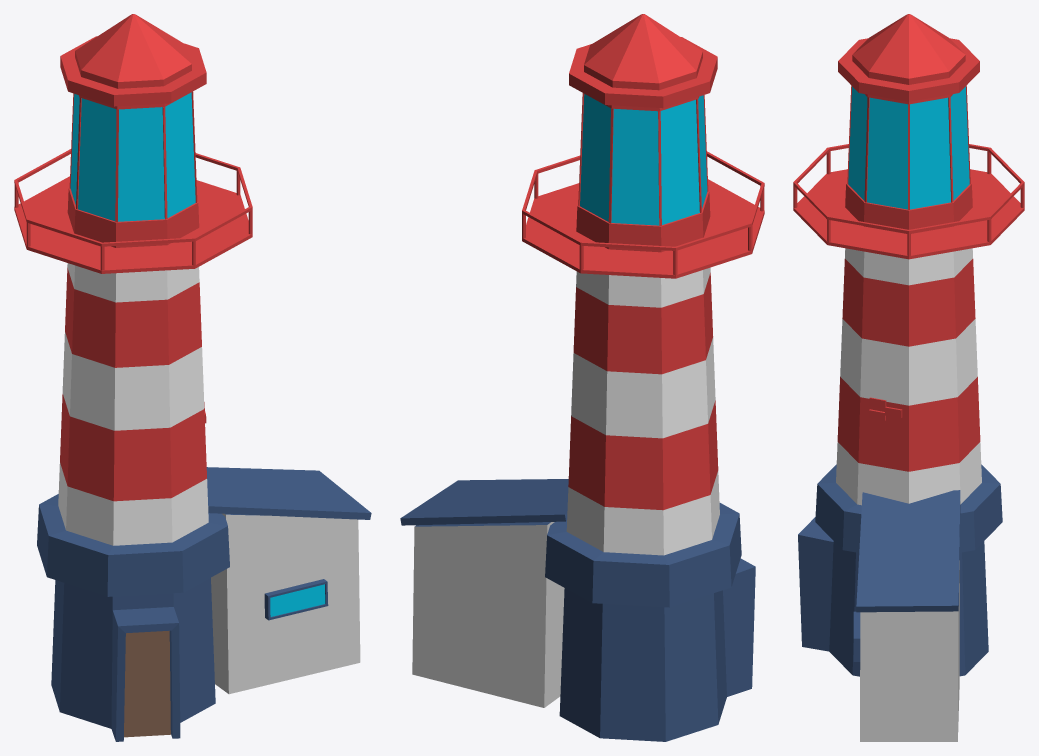
The model's file is Gp1Assets_LightHouse (1).fbx.
3 views of the same model, side by side, from view 1: azimuth 30°, elevation 25°; view 2: azimuth 150°, elevation 25°; view 3: azimuth 270°, elevation 25° (orthographic). The views are drawn at different scales.
Visible parts, largest first — view 1: LightHouse, Cube.002, Cylinder.002, Plane, Cylinder.001; view 2: LightHouse, Cube.002, Cylinder.002, Plane; view 3: LightHouse, Cube.002, Cylinder.002, Plane.
Part boxes in pixels (left/top/right/bottom): LightHouse: left=14, top=14, right=252, bottom=741; Cube.002: left=211, top=513, right=360, bottom=694; Cylinder.002: left=70, top=92, right=195, bottom=221; Plane: left=206, top=467, right=371, bottom=519; Cylinder.001: left=124, top=630, right=170, bottom=737; LightHouse: left=522, top=14, right=764, bottom=741; Cube.002: left=412, top=522, right=564, bottom=707; Cylinder.002: left=580, top=94, right=707, bottom=225; Plane: left=400, top=479, right=568, bottom=525; LightHouse: left=793, top=14, right=1024, bottom=676; Cube.002: left=853, top=560, right=959, bottom=741; Cylinder.002: left=848, top=86, right=969, bottom=209; Plane: left=856, top=490, right=960, bottom=612.
Size of the model in its own units: 707 by 1442 by 473.
